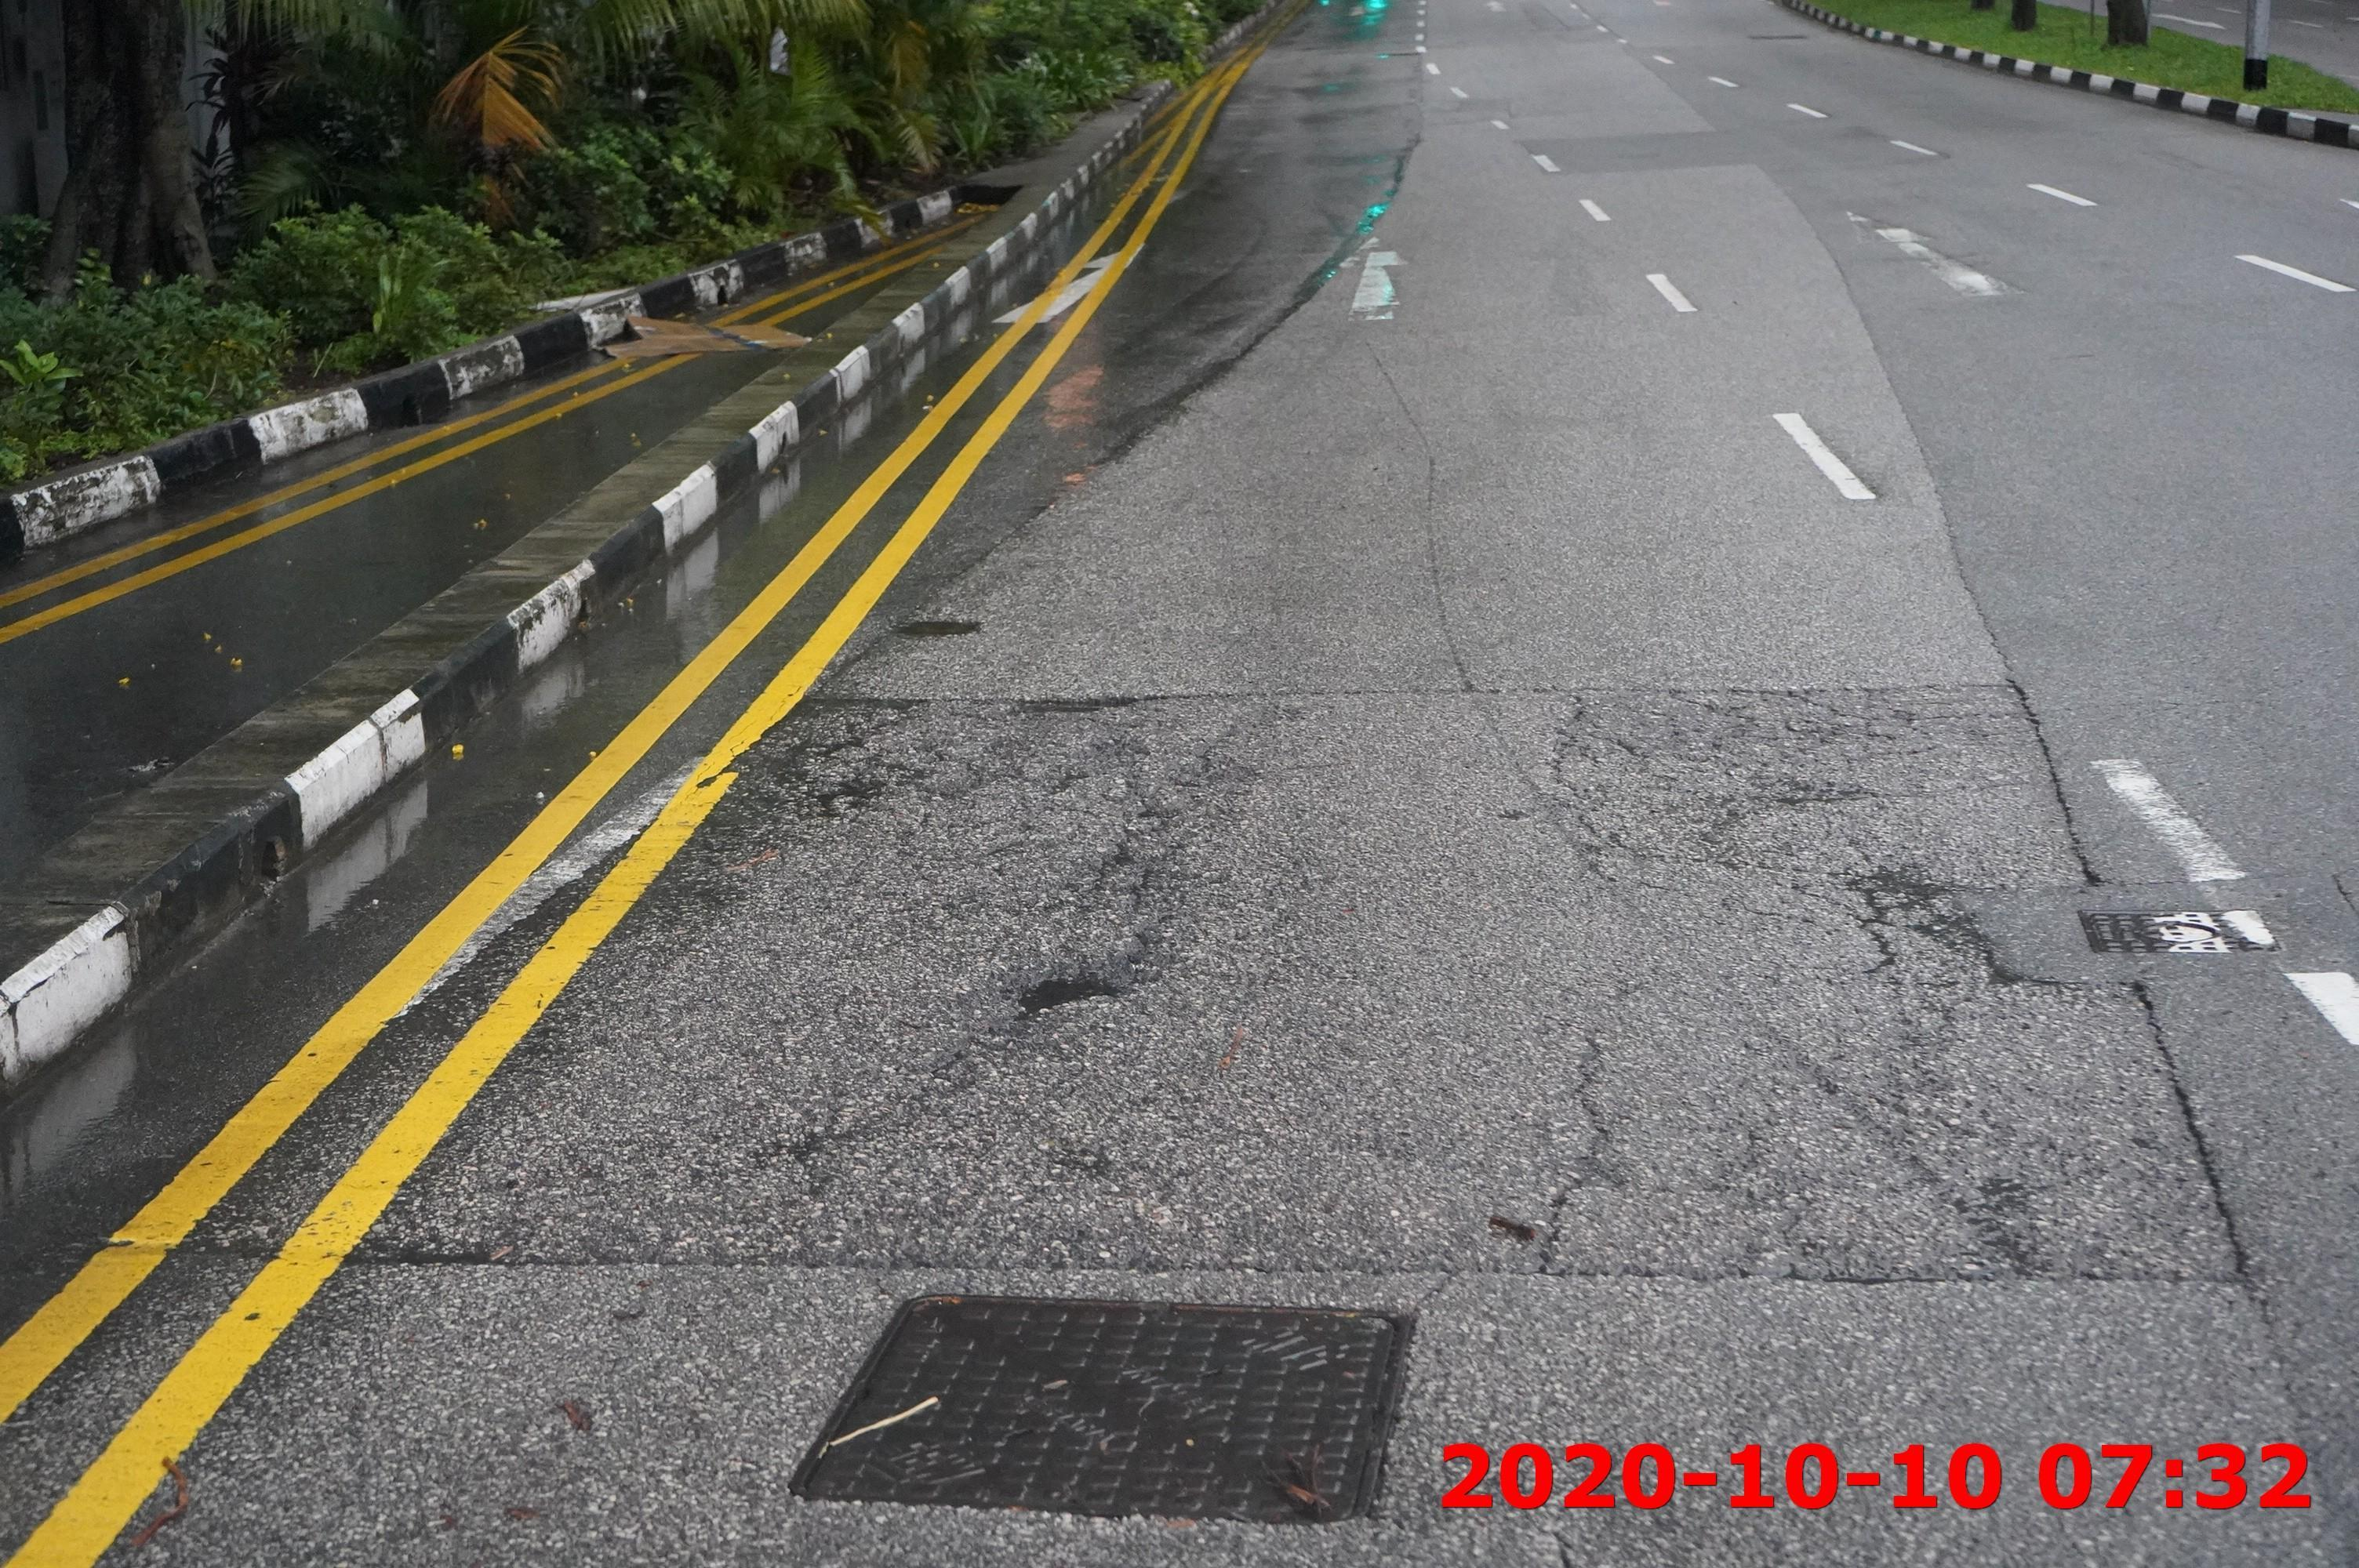alligator crack: (1524, 663, 2135, 1293), (726, 667, 1286, 1017)
single crack: (1360, 331, 1498, 675)
